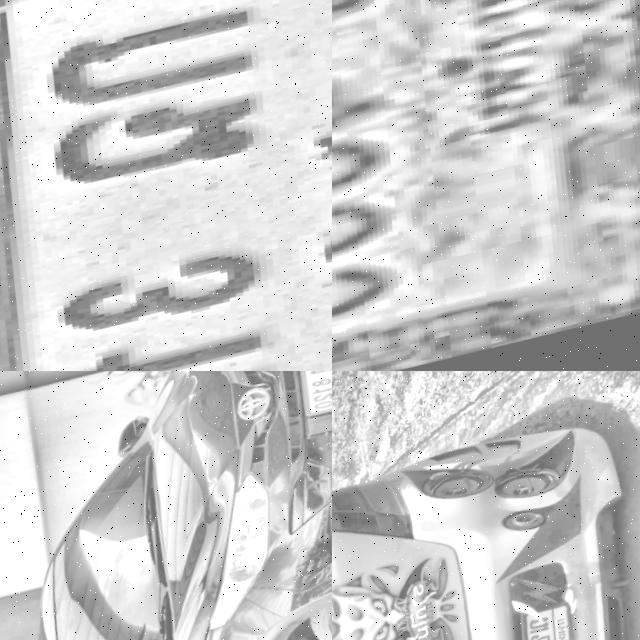license-plate: (0, 0, 332, 371), (332, 0, 640, 371), (517, 604, 595, 640), (295, 371, 332, 423)
